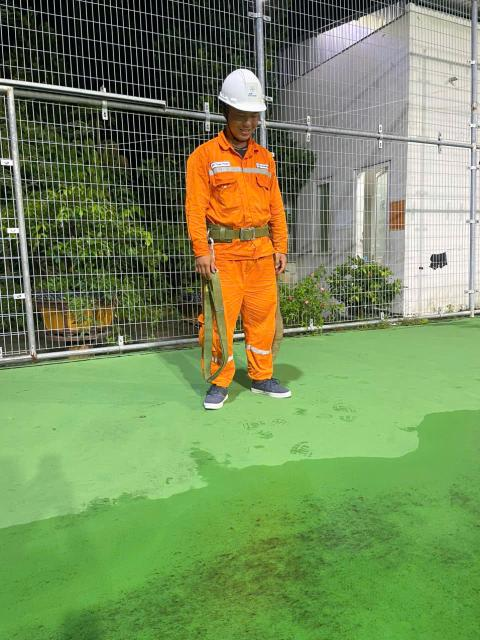harness: (204, 217, 290, 249)
helmet: (206, 57, 268, 113)
shoes: (249, 363, 291, 404), (198, 378, 232, 417)
